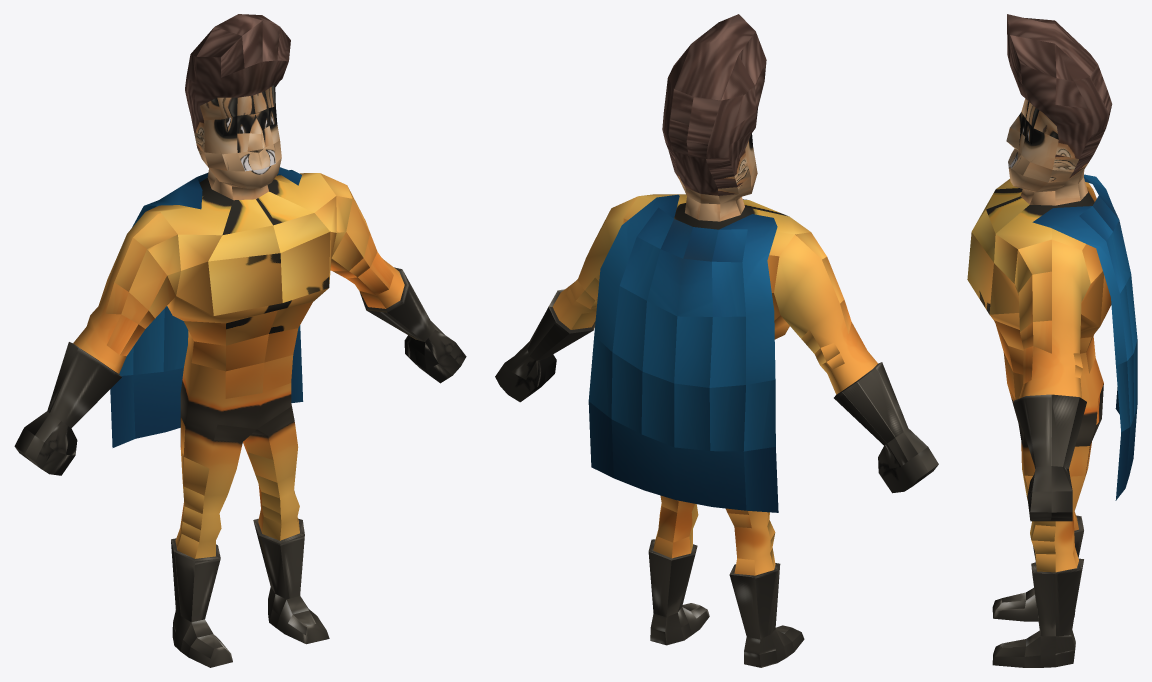
Rendered from Hero.FBX.
The picture shows the model from 3 angles, left to right: view 1: azimuth 30°, elevation 25°; view 2: azimuth 150°, elevation 25°; view 3: azimuth 270°, elevation 25°; orthographic projection.
Visible parts, largest first — view 1: Hero Model; view 2: Hero Model; view 3: Hero Model.
Part boxes in pixels (x1,y1,x2,y2): Hero Model: [14, 14, 466, 667]; Hero Model: [495, 14, 938, 667]; Hero Model: [967, 14, 1137, 667].
Size of the model in its own units: 145 by 201 by 49.82.
